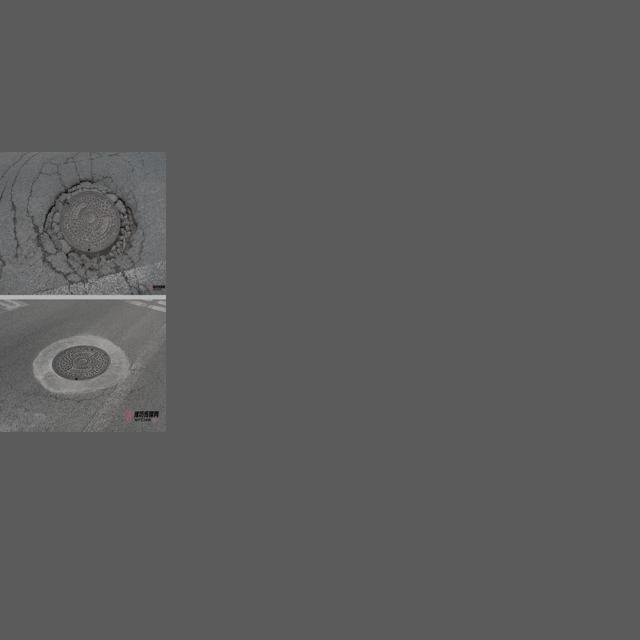circle: (37, 178, 145, 277)
